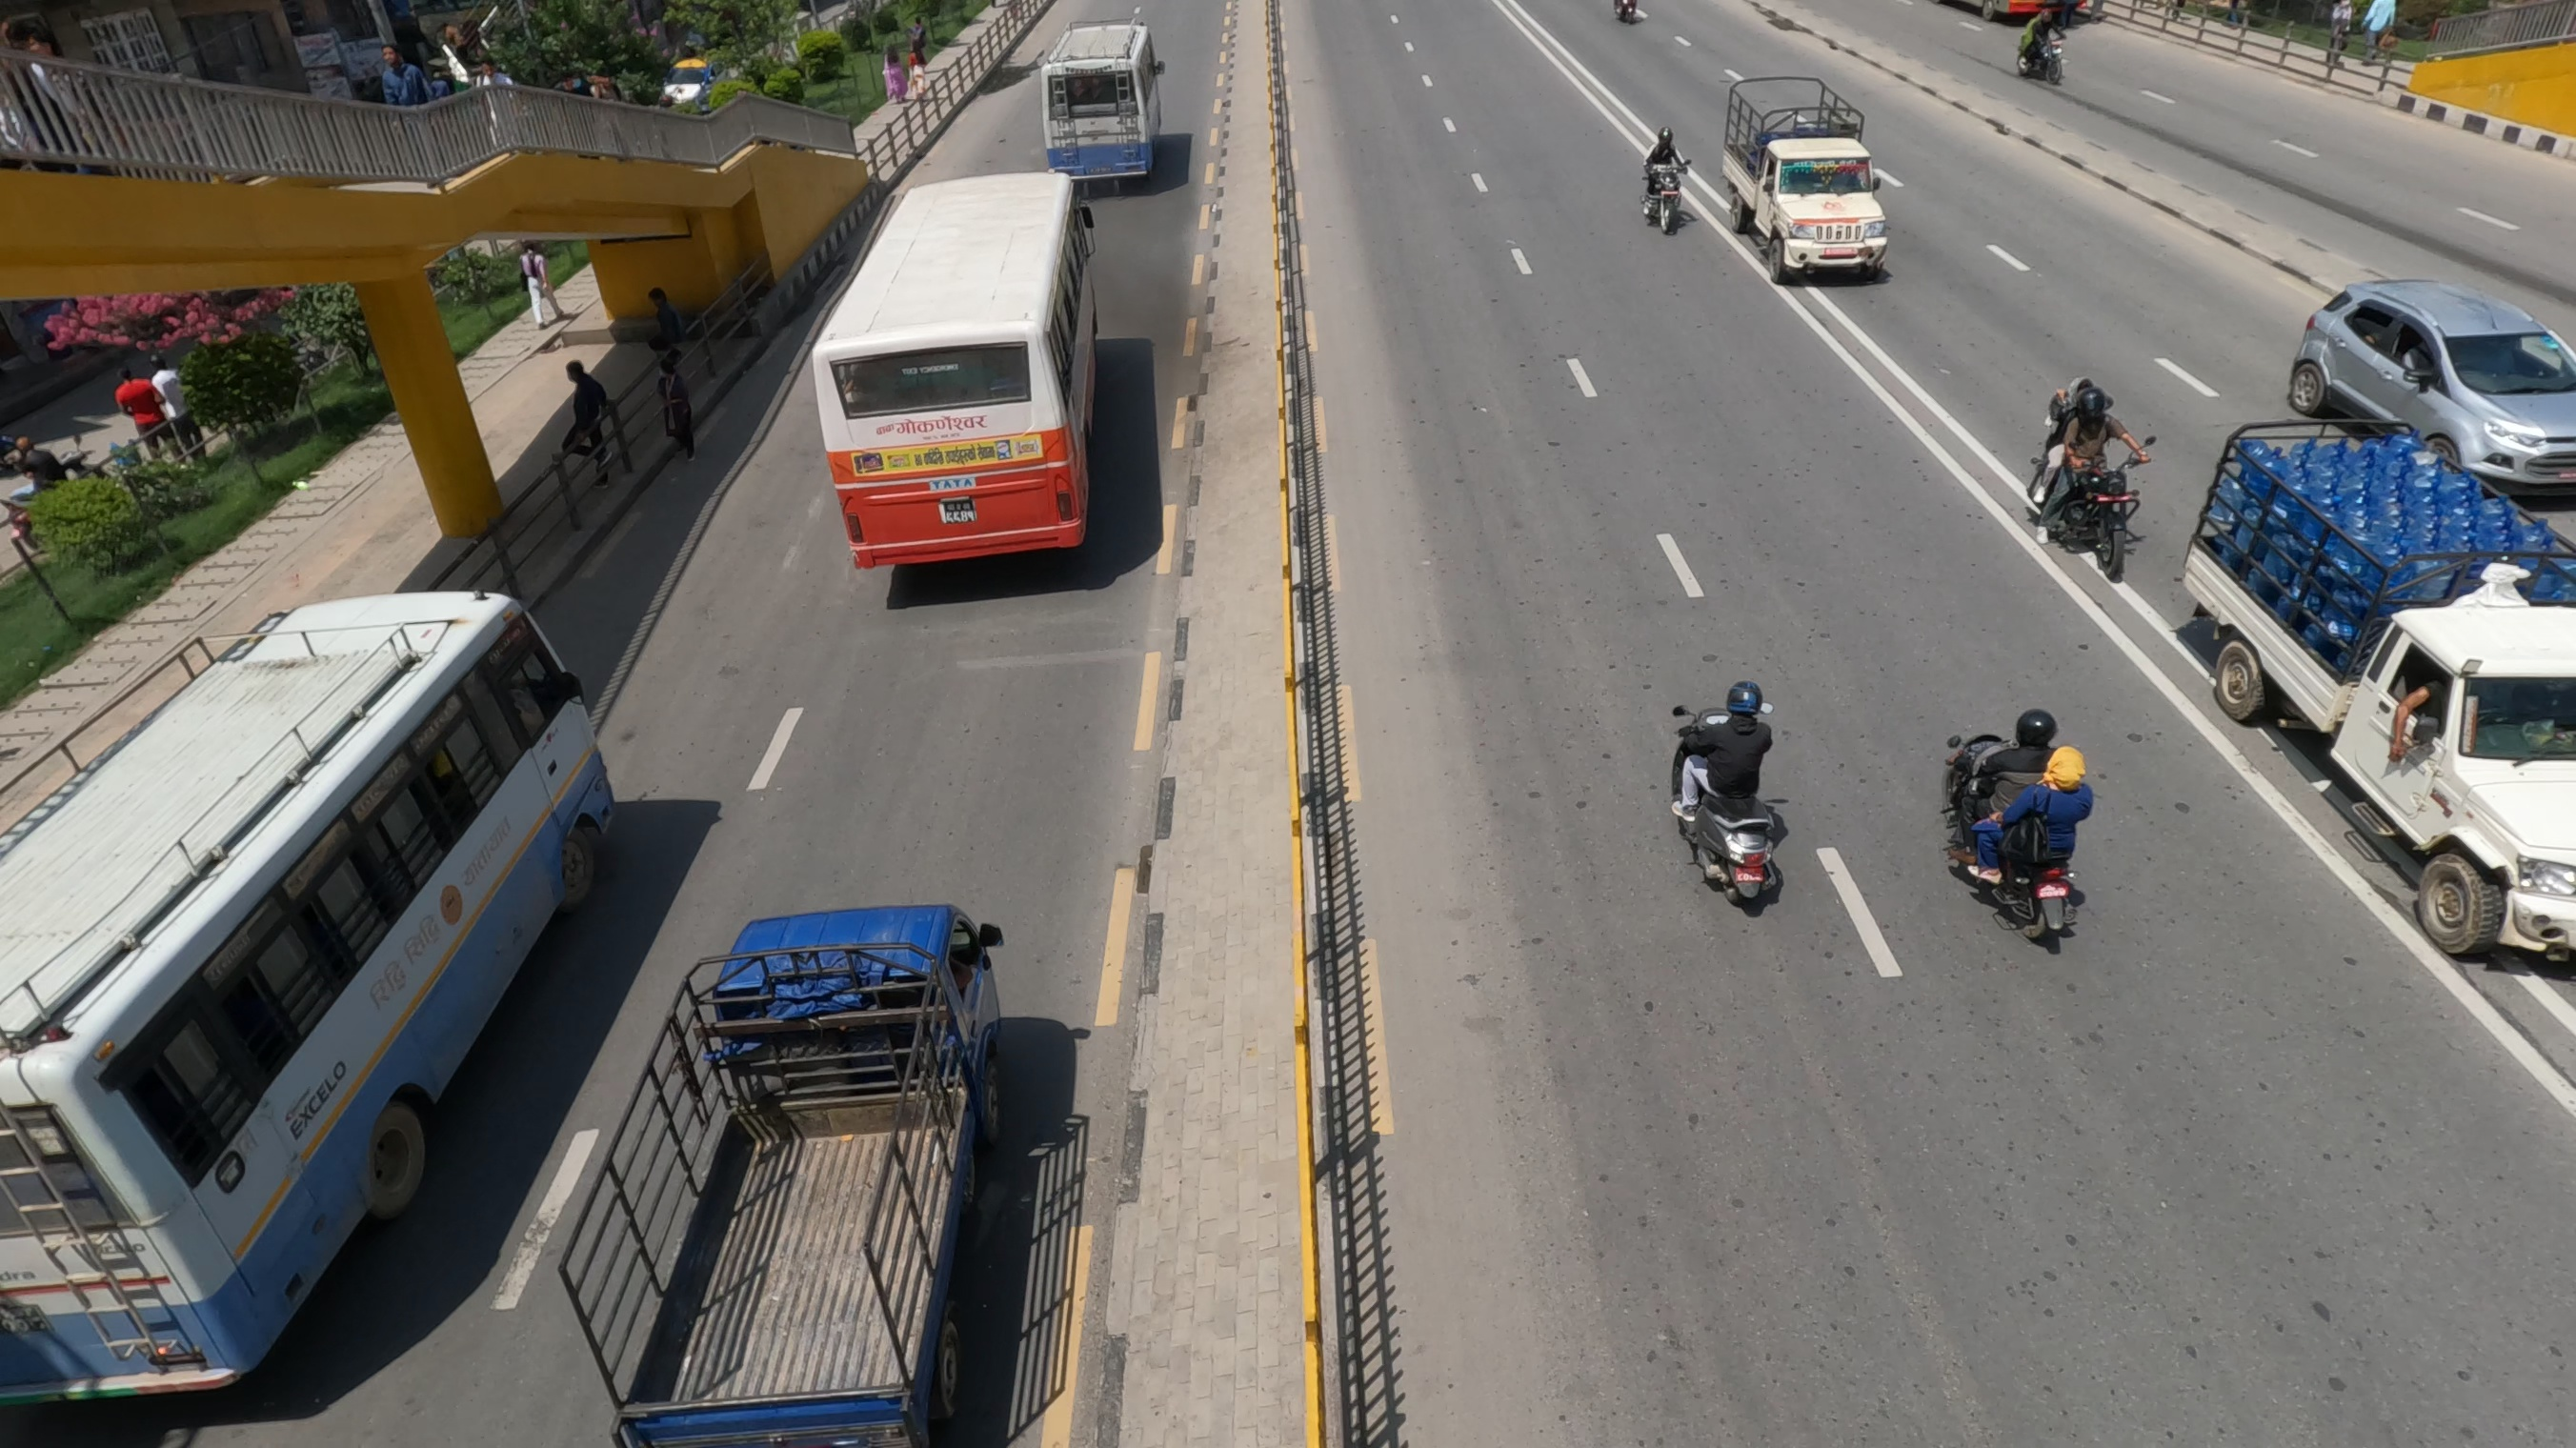normal: (711, 917, 957, 1439), (1054, 65, 1155, 170)
smoky: (835, 283, 1221, 520)
